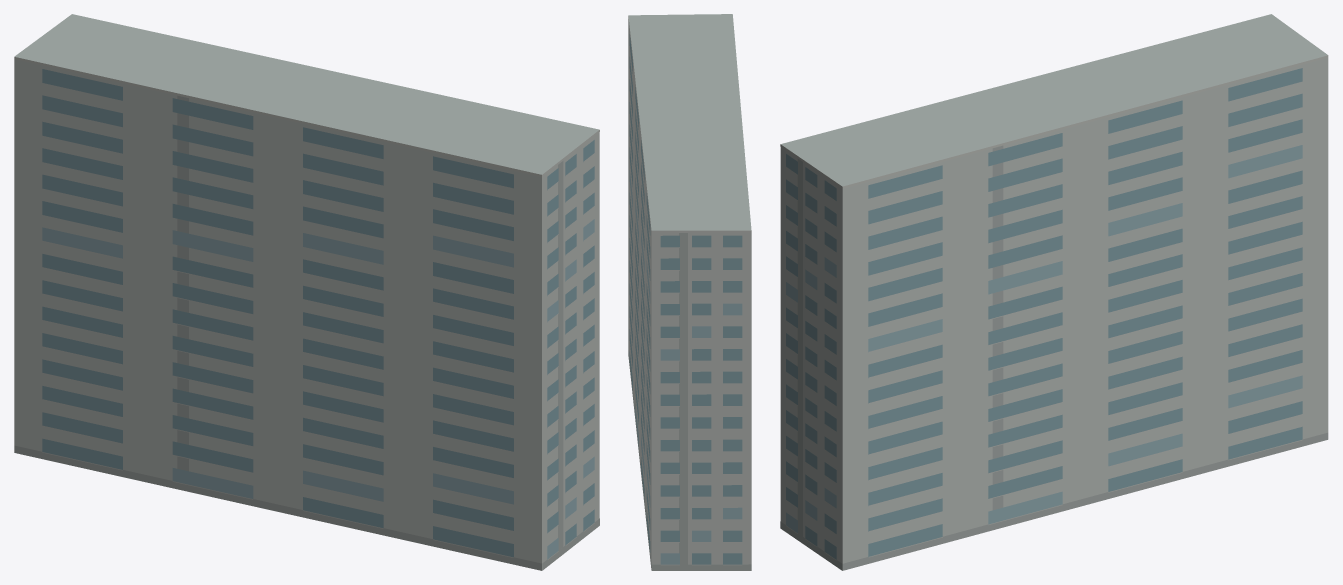
The model's file is residential-b720fba5-979e-4836-a0ce-18b89d3fc8f1.glb.
3 renders of one model, left to right at view 1: azimuth 30°, elevation 25°; view 2: azimuth 150°, elevation 25°; view 3: azimuth 270°, elevation 25°, orthographic. The views are drawn at different scales.
Visible parts, largest first — view 1: residential-b720fba5-979e-4836-a0ce-18b89d3fc8f1.tmp; view 2: residential-b720fba5-979e-4836-a0ce-18b89d3fc8f1.tmp; view 3: residential-b720fba5-979e-4836-a0ce-18b89d3fc8f1.tmp.
Part boxes in pixels (box(x1,y1,x2,y2)): residential-b720fba5-979e-4836-a0ce-18b89d3fc8f1.tmp: box(14, 14, 599, 570); residential-b720fba5-979e-4836-a0ce-18b89d3fc8f1.tmp: box(628, 14, 751, 570); residential-b720fba5-979e-4836-a0ce-18b89d3fc8f1.tmp: box(780, 14, 1328, 570).
Size of the model in its own units: 38.39 by 39.85 by 51.5.
